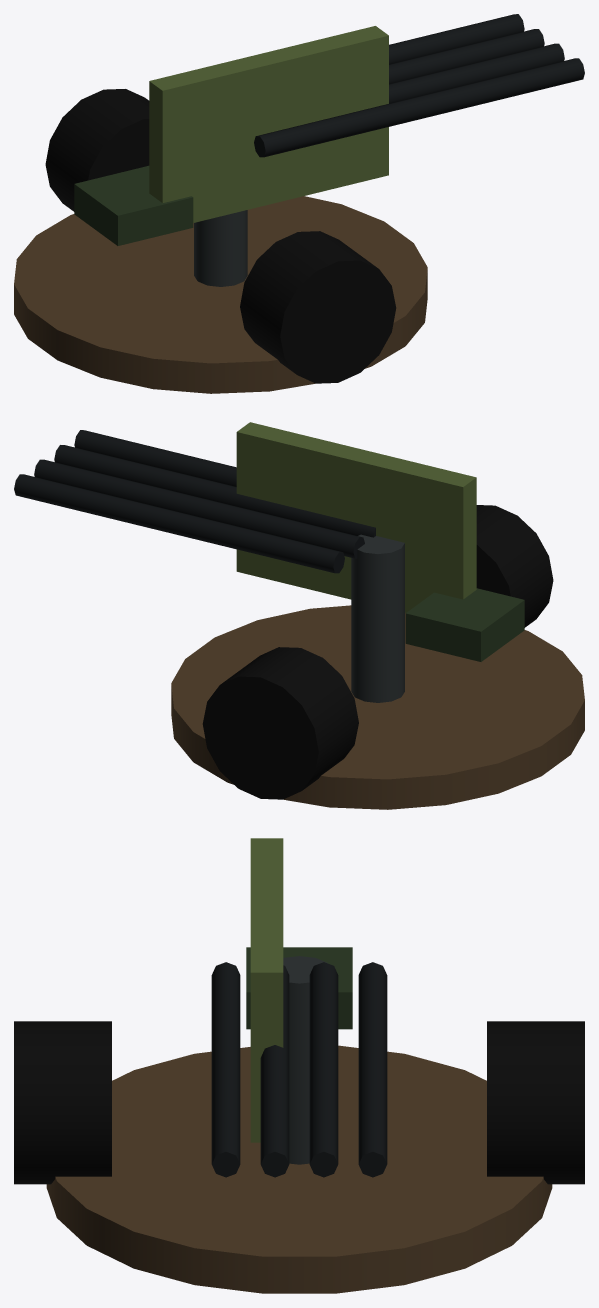
The model's file is zpu4-aa-gun.glb.
3 views of the same model, one above another, from view 1: azimuth 30°, elevation 25°; view 2: azimuth 150°, elevation 25°; view 3: azimuth 270°, elevation 25° (orthographic). The views are drawn at different scales.
Visible parts, largest first — view 1: platform, shield, leftWheel, rightWheel, barrel4, seat, pedestal, barrel3, barrel2, barrel1; view 2: platform, shield, rightWheel, pedestal, barrel1, barrel2, seat, leftWheel, barrel3, barrel4; view 3: platform, leftWheel, rightWheel, shield, barrel1, barrel2, barrel4, pedestal, barrel3, seat.
Boxes of the visible parts, x1,y1,x2,y2 form: platform: (14,196,427,393); shield: (149,26,388,222); leftWheel: (240,231,396,383); rightWheel: (45,89,149,211); barrel4: (254,58,584,157); seat: (74,165,193,245); pedestal: (194,210,247,286); barrel3: (389,43,564,103); barrel2: (389,29,544,83); barrel1: (389,14,524,64); platform: (171,605,584,809); shield: (236,422,476,612); rightWheel: (202,647,358,799); pedestal: (351,534,404,702); barrel1: (14,474,344,573); barrel2: (34,459,364,558); seat: (405,588,524,661); leftWheel: (476,505,553,627); barrel3: (54,445,375,537); barrel4: (74,430,236,486); platform: (46,1045,552,1293); leftWheel: (14,1021,111,1184); rightWheel: (487,1021,584,1184); shield: (250,838,283,1142); barrel1: (358,962,387,1177); barrel2: (309,962,338,1177); barrel4: (211,962,240,1177); pedestal: (283,956,327,1164); barrel3: (260,965,289,1177); seat: (246,947,352,1029).
Size of the model in its own units: 1.74 by 0.83 by 1.4.
